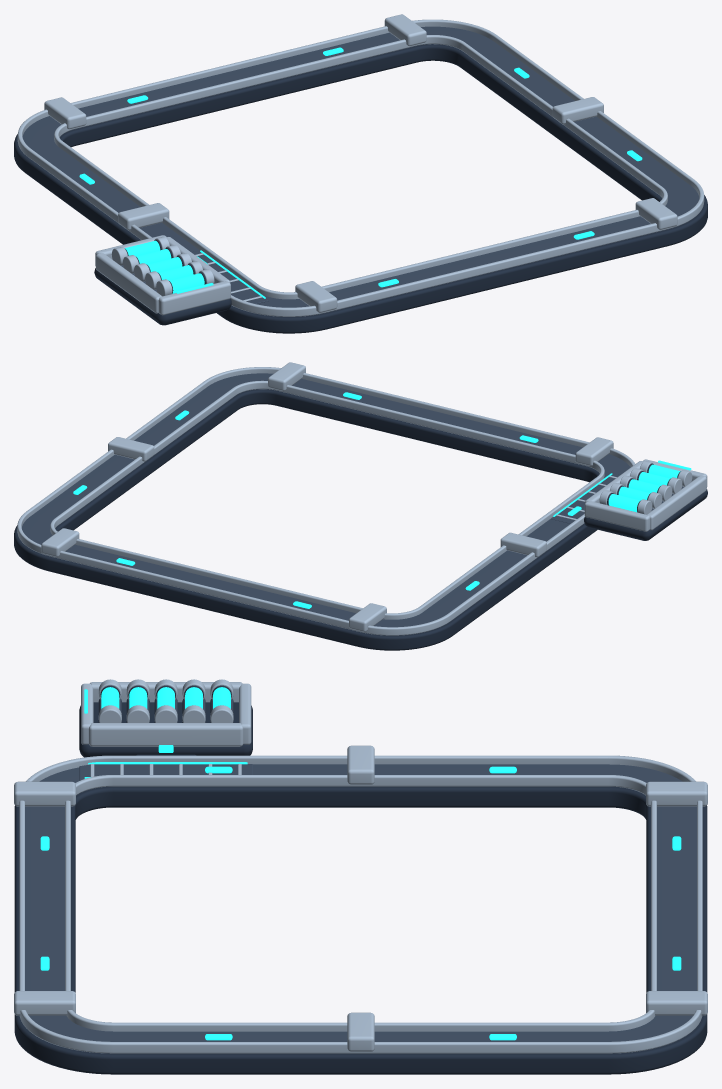
File: AFJ_Orbit_With_Depot.fbx
3 views of the same model, one above another, from view 1: azimuth 30°, elevation 25°; view 2: azimuth 150°, elevation 25°; view 3: azimuth 270°, elevation 25° (orthographic). The views are drawn at different scales.
Visible parts, largest first — view 1: Orbit_Base, Travel_Channel, Outer_Silver_Rail, Inner_Silver_Rail, Depot_SideRail, Depot_Backplate, Depot_EndRail, Side_Clamp, Side_Clamp.001, Corner_Clamp.003, Corner_Clamp.002, Corner_Clamp (+2 smaller); view 2: Orbit_Base, Travel_Channel, Outer_Silver_Rail, Inner_Silver_Rail, Depot_EndRail.001, Depot_SideRail, Depot_Backplate, Side_Clamp, Side_Clamp.001, Corner_Clamp, Corner_Clamp.003, Corner_Clamp.002 (+2 smaller); view 3: Orbit_Base, Travel_Channel, Outer_Silver_Rail, Inner_Silver_Rail, Depot_SideRail.001, Depot_Backplate, Inline_Service_Surface, Corner_Clamp, Corner_Clamp.002, Corner_Clamp.001, Corner_Clamp.003, Side_Clamp (+4 smaller).
Boxes of the visible parts, x1,y1,x2,y2 form: Orbit_Base: [14, 44, 707, 333]; Travel_Channel: [22, 26, 699, 307]; Outer_Silver_Rail: [17, 19, 704, 316]; Inner_Silver_Rail: [54, 35, 667, 299]; Depot_SideRail: [96, 253, 161, 313]; Depot_Backplate: [94, 268, 231, 325]; Depot_EndRail: [158, 281, 230, 315]; Side_Clamp: [118, 203, 169, 230]; Side_Clamp.001: [552, 97, 603, 124]; Corner_Clamp.003: [384, 14, 426, 46]; Corner_Clamp.002: [44, 97, 86, 129]; Corner_Clamp: [295, 281, 337, 312]; Orbit_Base: [14, 389, 599, 650]; Travel_Channel: [21, 373, 630, 627]; Outer_Silver_Rail: [17, 367, 635, 635]; Inner_Silver_Rail: [50, 380, 604, 619]; Depot_EndRail.001: [584, 501, 649, 531]; Depot_SideRail: [647, 475, 706, 530]; Depot_Backplate: [584, 489, 707, 540]; Side_Clamp: [500, 532, 546, 557]; Side_Clamp.001: [108, 437, 154, 461]; Corner_Clamp: [575, 437, 613, 465]; Corner_Clamp.003: [41, 528, 79, 556]; Corner_Clamp.002: [349, 603, 386, 631]; Orbit_Base: [14, 786, 707, 1074]; Travel_Channel: [25, 764, 696, 1041]; Outer_Silver_Rail: [19, 755, 702, 1053]; Inner_Silver_Rail: [65, 775, 656, 1031]; Depot_SideRail.001: [88, 723, 243, 746]; Depot_Backplate: [79, 702, 252, 757]; Inline_Service_Surface: [79, 764, 252, 780]; Corner_Clamp: [14, 781, 75, 806]; Corner_Clamp.002: [646, 781, 707, 806]; Corner_Clamp.001: [14, 991, 75, 1015]; Corner_Clamp.003: [646, 991, 707, 1015]; Side_Clamp: [347, 745, 374, 784].
Size of the model in its own units: 761 by 69 by 659.
